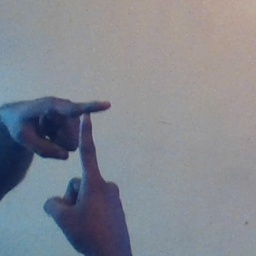T: (43, 91, 126, 204)
